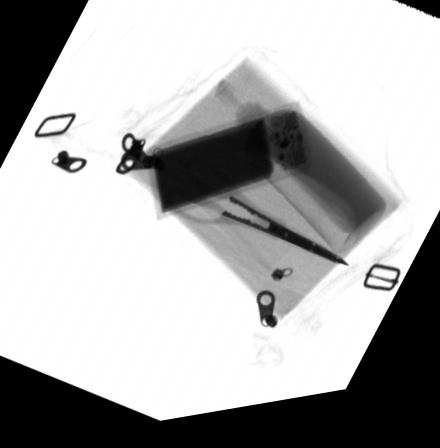Powerbank: (142, 107, 313, 225)
Scissors: (156, 144, 355, 281)
